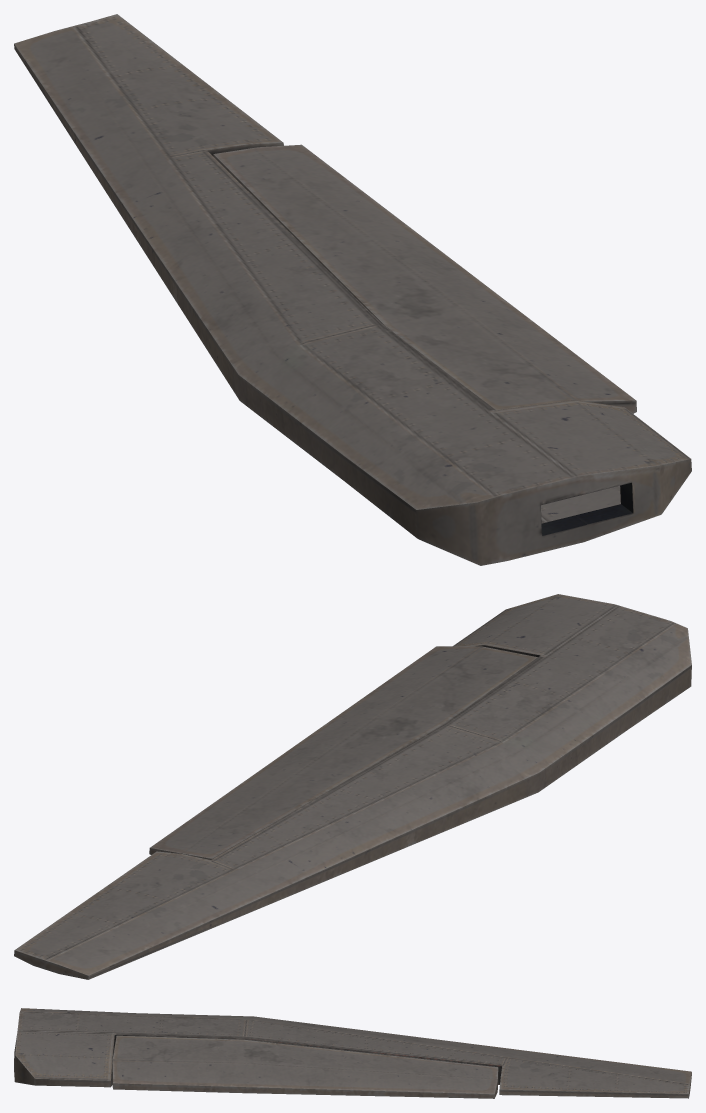
The model's file is AlaDeAvion.glb.
3 renders of one model, top to bottom at view 1: azimuth 30°, elevation 25°; view 2: azimuth 150°, elevation 25°; view 3: azimuth 270°, elevation 25°, orthographic. The views are drawn at different scales.
Parts seen in each view (by area): view 1: Object_2; view 2: Object_2; view 3: Object_2.
Boxes of the visible parts, x1,y1,x2,y2 form: Object_2: (14,14,691,565); Object_2: (14,594,691,979); Object_2: (14,1008,691,1098).
Size of the model in its own units: 5.79 by 1.37 by 21.14.
1 material, 1 textured.
